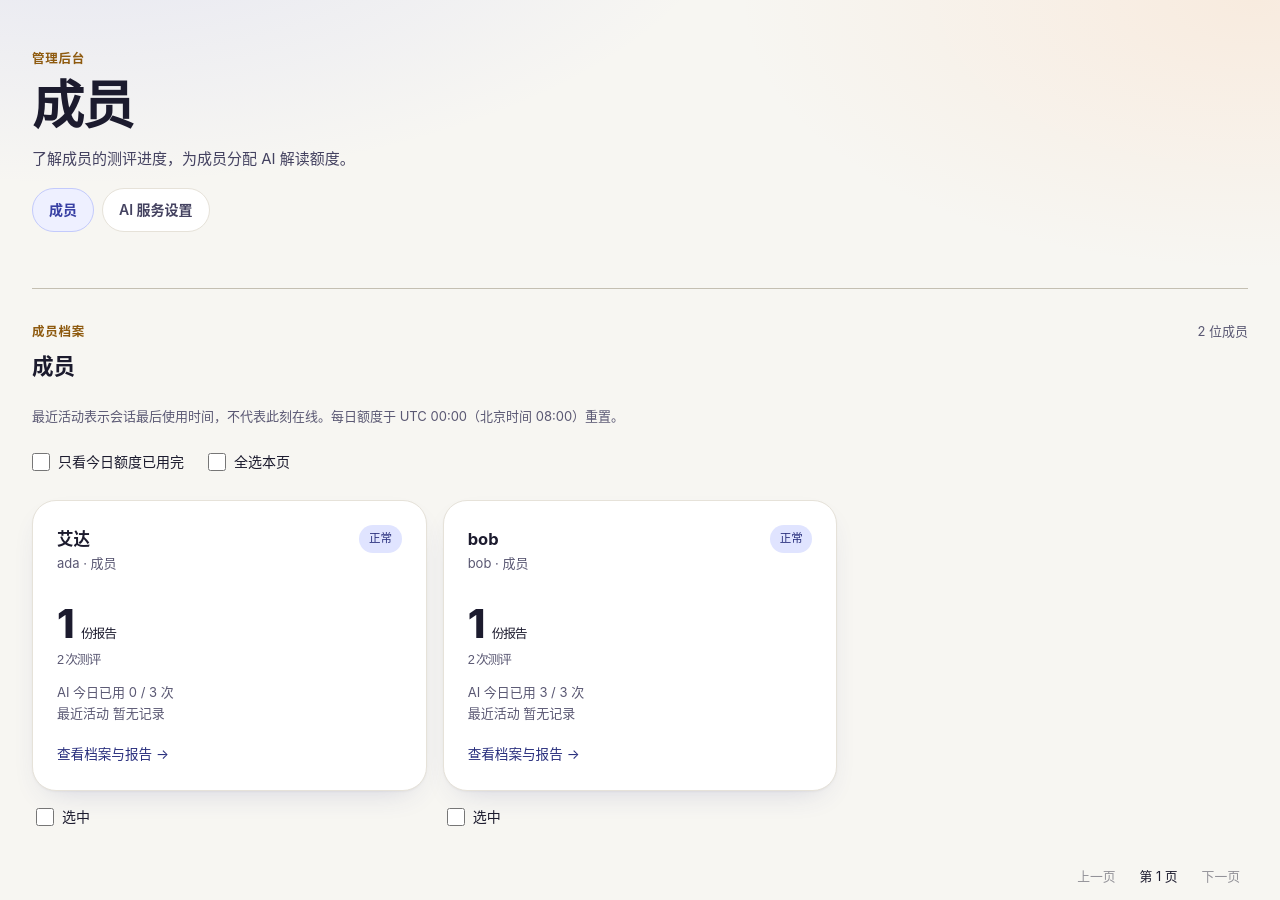
Test case: 只看今日额度已用完 › 打开开关按筛选重新读第一页，计数与翻页都带上条件；关掉恢复全部成员
The width and height of the screenshot is (1280, 900).
Step 1. Click the checkbox labelled "只看今日额度已用完" → x=41, y=462, box [32,452,50,470]
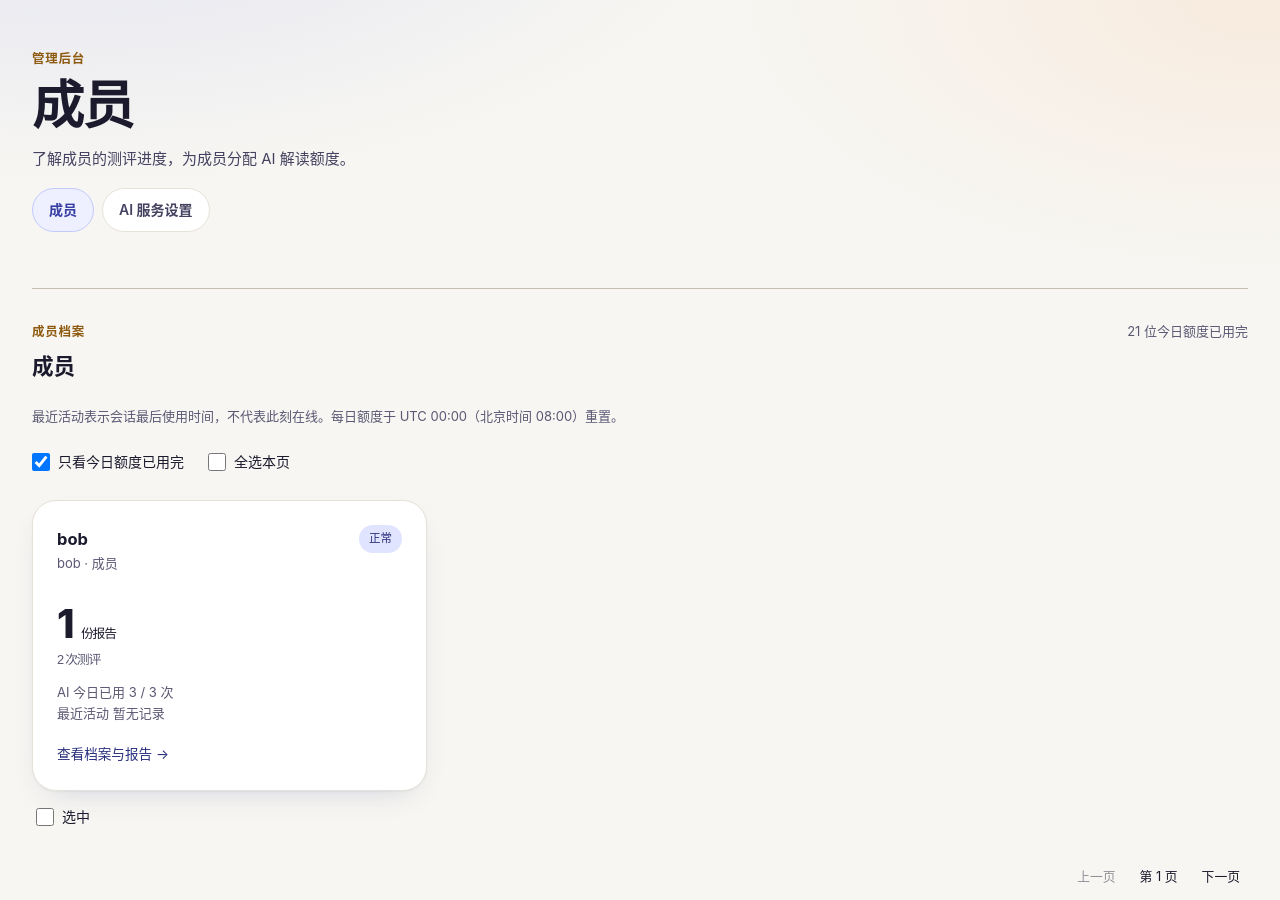
expect the text "21 位今日额度已用完" is shown: met, box [1127,321,1248,342]
expect the number of buttons with class "member-card" is 1: met, box [32,500,427,791]
Step 2. Click the button "下一页" → x=1221, y=877, box [1194,855,1248,899]
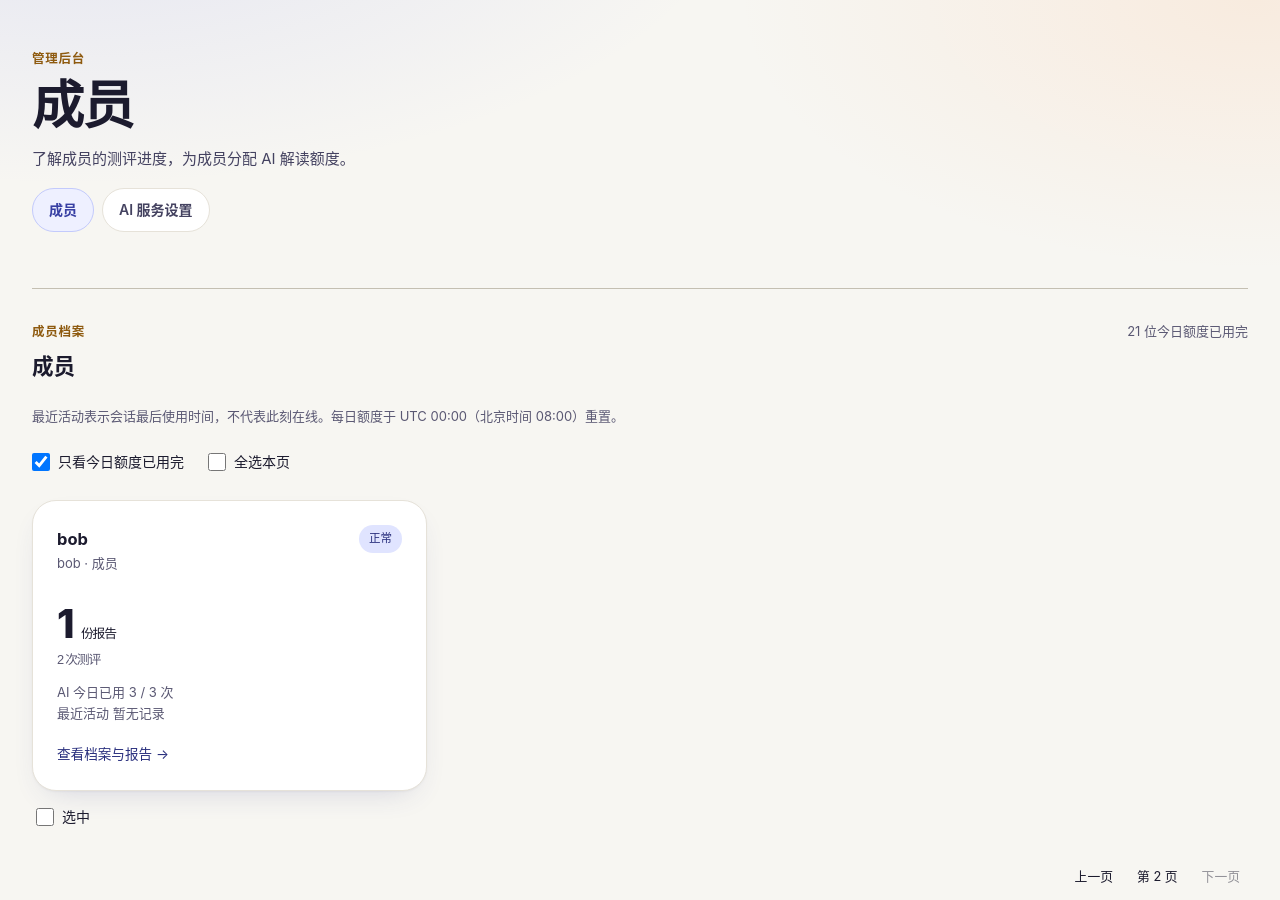
Step 3. Click the checkbox labelled "只看今日额度已用完" → x=41, y=462, box [32,452,50,470]
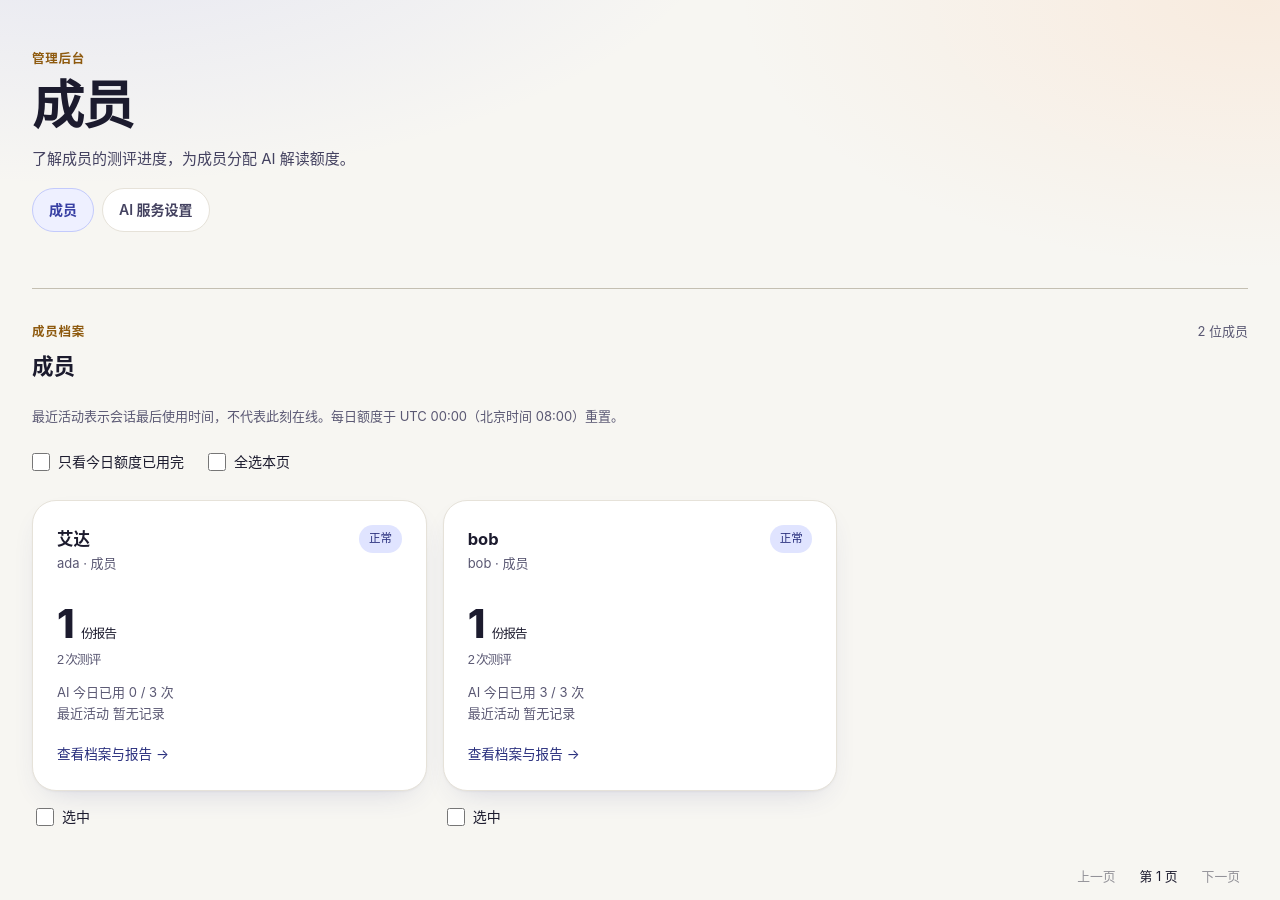
expect the text "2 位成员" is shown: met, box [1197,321,1248,342]
